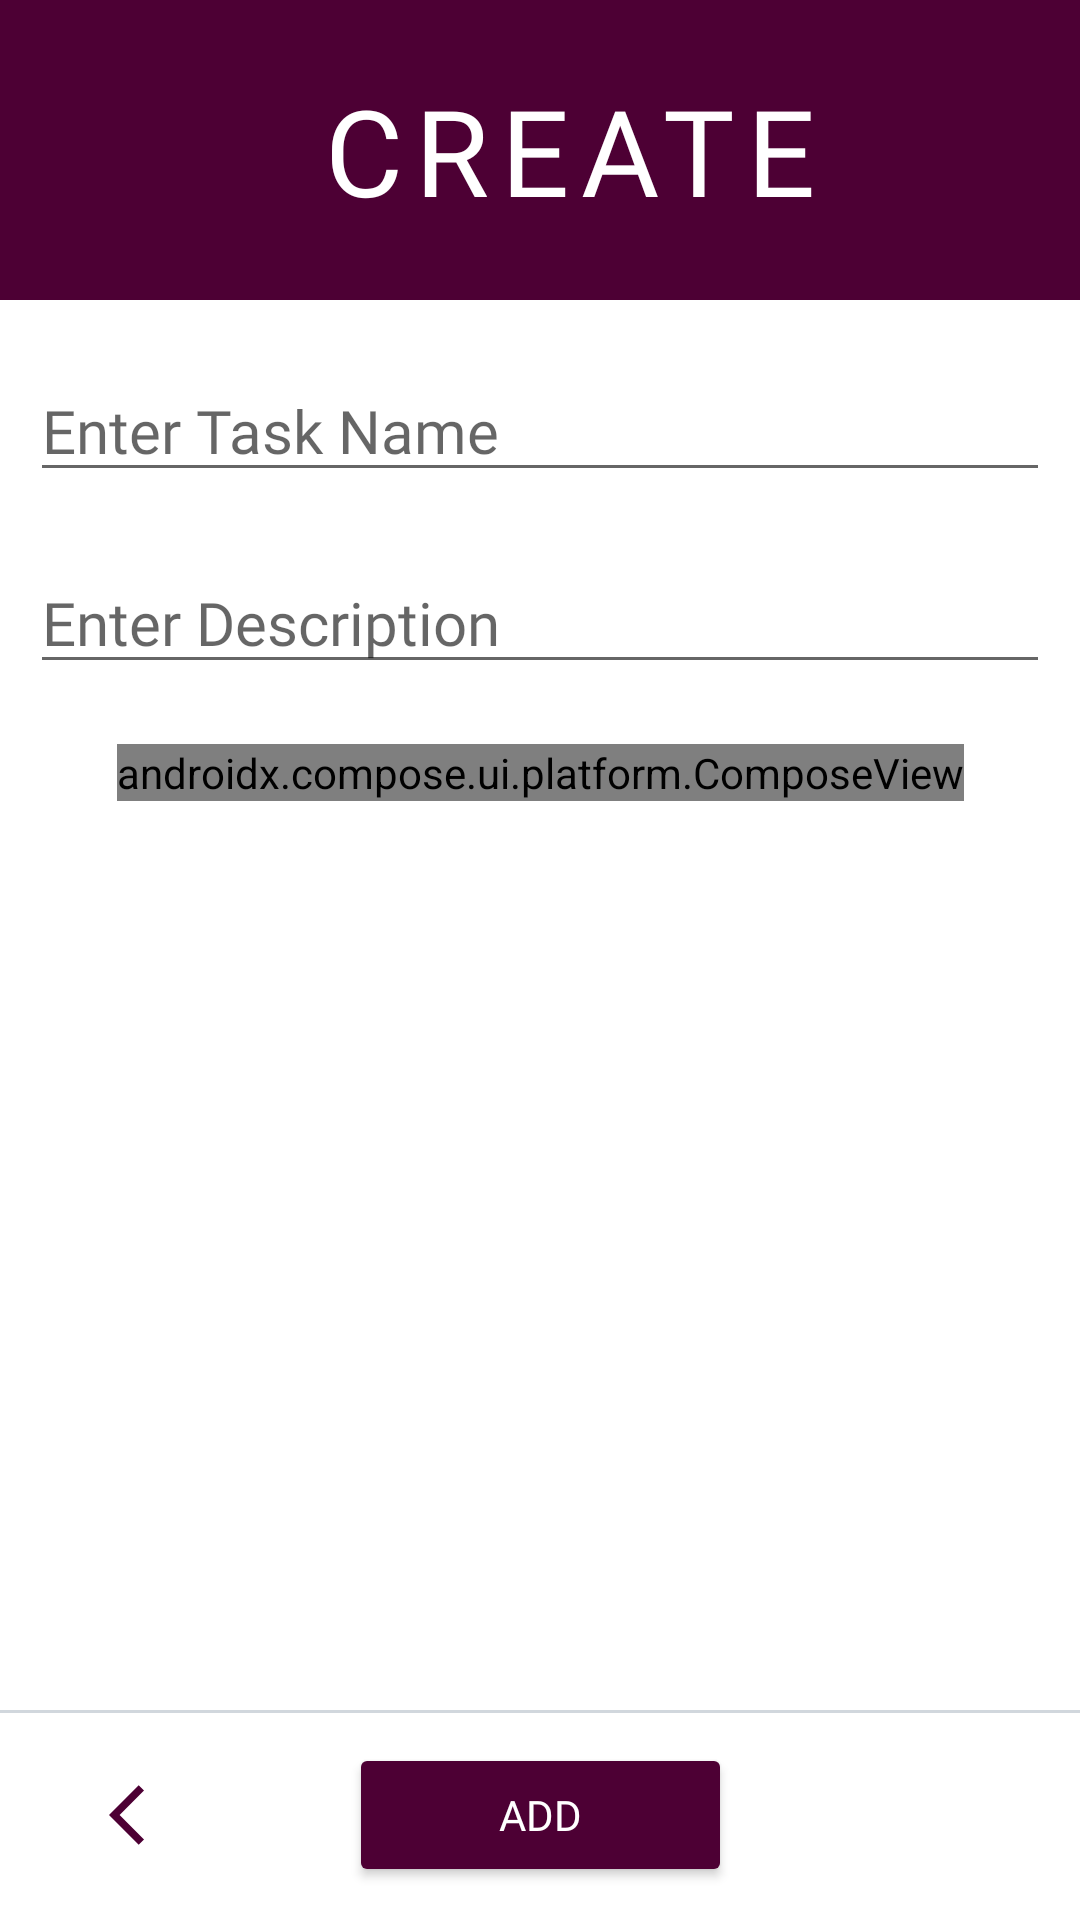

Named icons in this screenshot (1080 x 1920) and their bounding boxes, (x1, y1, x2, y2):
arrow back: (109, 1785, 144, 1845)
